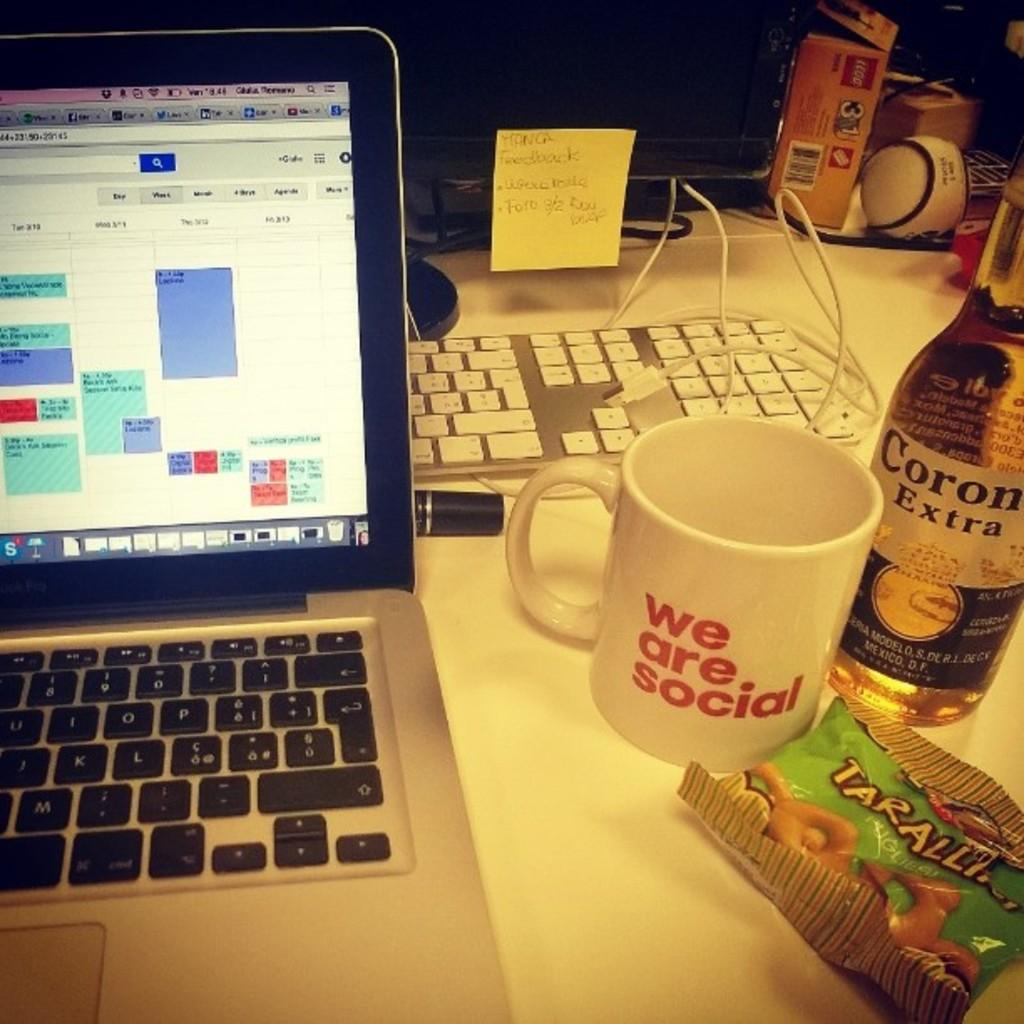Computer-keyboard: (0, 627, 392, 893), (402, 311, 860, 479)
Laptop: (23, 37, 527, 1001)
